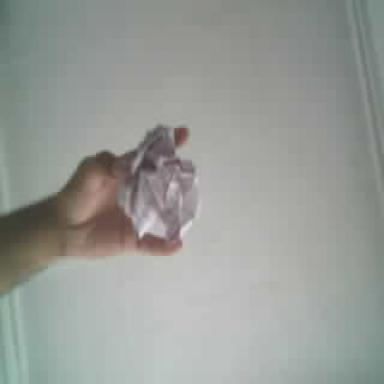paper: (119, 126, 198, 240)
